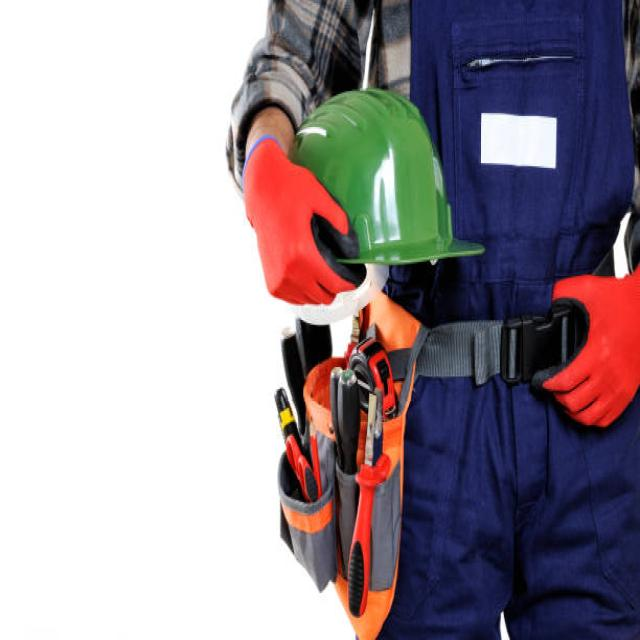Gloves: (228, 123, 366, 321), (532, 241, 640, 441)
helmet: (286, 86, 492, 271)
person: (221, 1, 640, 640)
